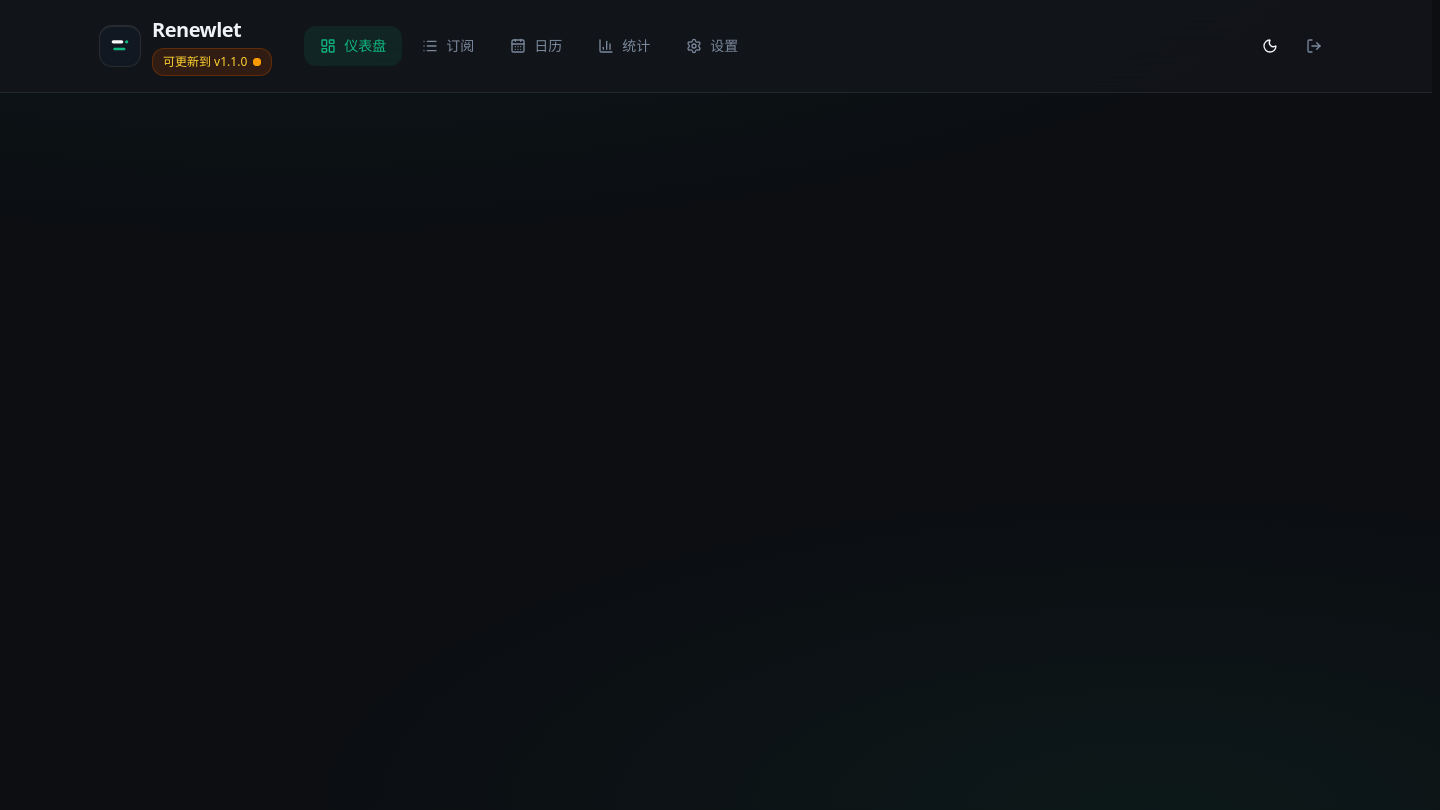
Test case: Header system version entry › shows the version badge for non-admin users without update actions
Click the button with aria-label "打开系统更新" at (212, 62), box left=152, top=48, right=272, bottom=76
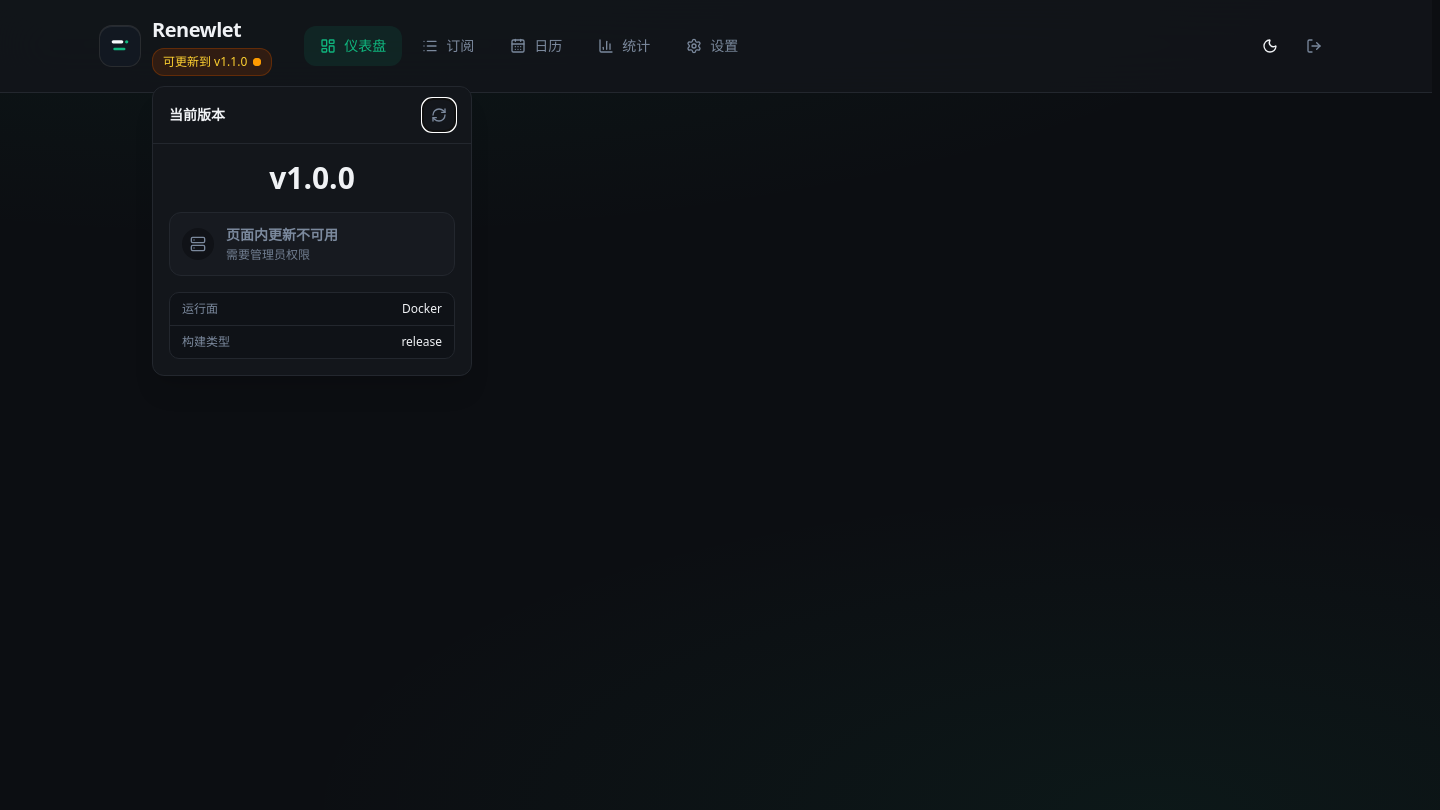
Check: the text "当前版本" is shown, box left=169, top=105, right=225, bottom=125
Check: the text "需要管理员权限" is shown, box left=226, top=246, right=310, bottom=263
